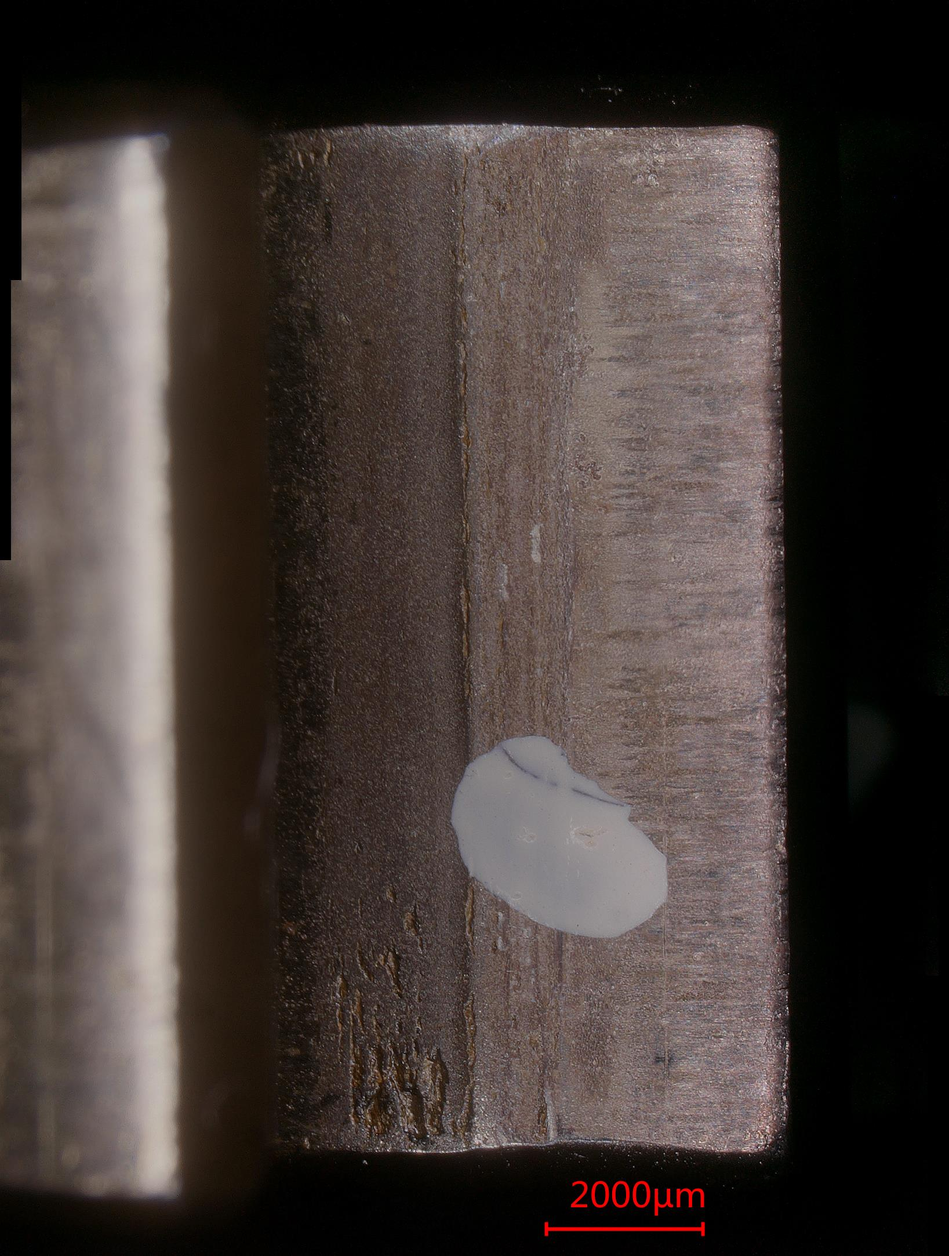Abrasion: (283, 133, 781, 1151)
